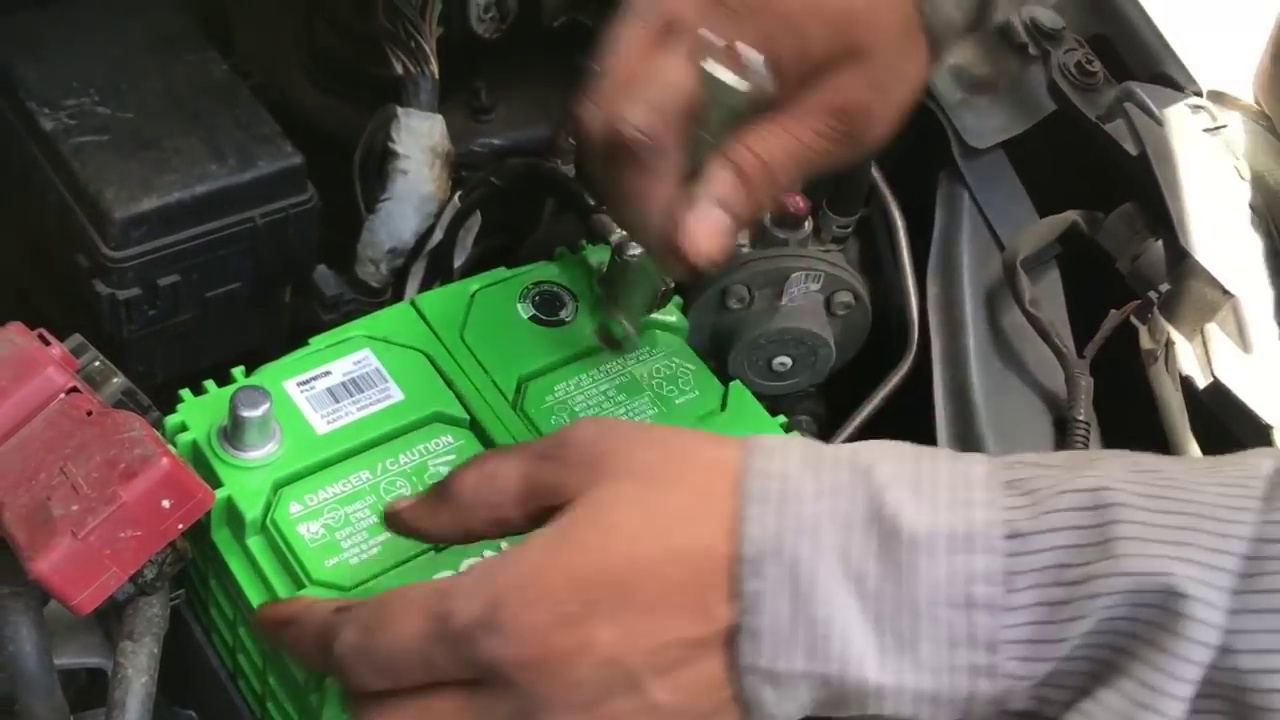battery: (151, 201, 804, 618)
neg_touched: (550, 105, 767, 355)
pos_disconnected: (14, 329, 289, 551)
